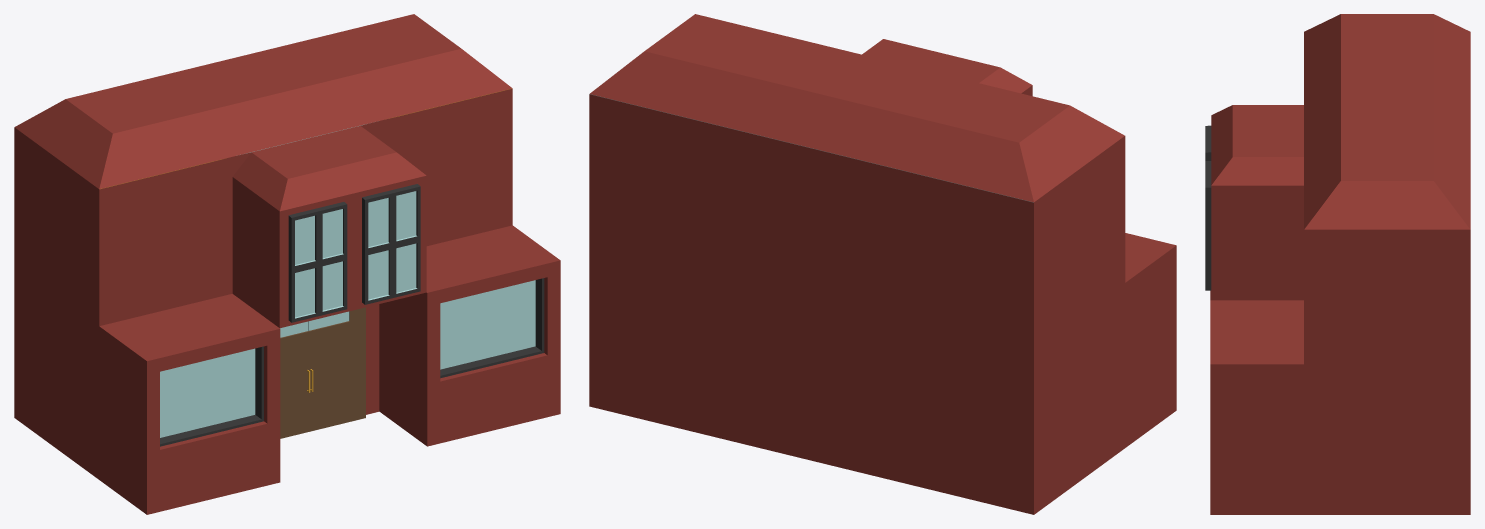
The model's file is House Red.fbx.
3 views of the same model, side by side, from view 1: azimuth 30°, elevation 25°; view 2: azimuth 150°, elevation 25°; view 3: azimuth 270°, elevation 25° (orthographic). The views are drawn at different scales.
Visible parts, largest first — view 1: Cube.002; view 2: Cube.002; view 3: Cube.002.
Part boxes in pixels (x1,y1,x2,y2): Cube.002: (14, 14, 560, 514); Cube.002: (589, 14, 1176, 514); Cube.002: (1205, 14, 1470, 514).
Size of the model in its own units: 2552 by 1915 by 1443.
